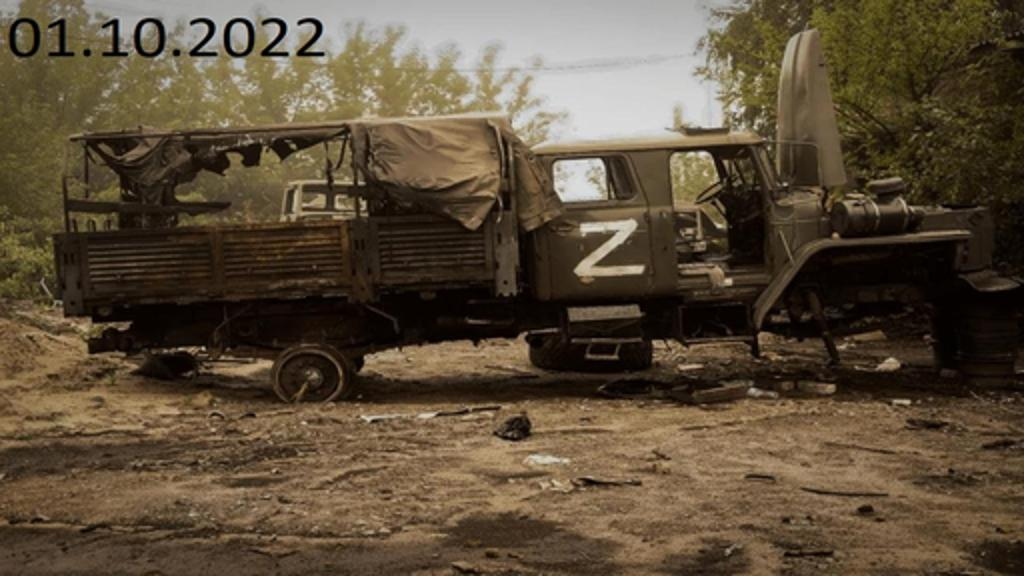TRUCK: (46, 102, 1020, 410)
